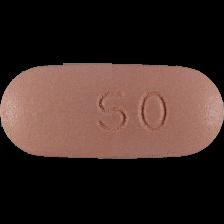47335-614: (0, 0, 224, 224)
